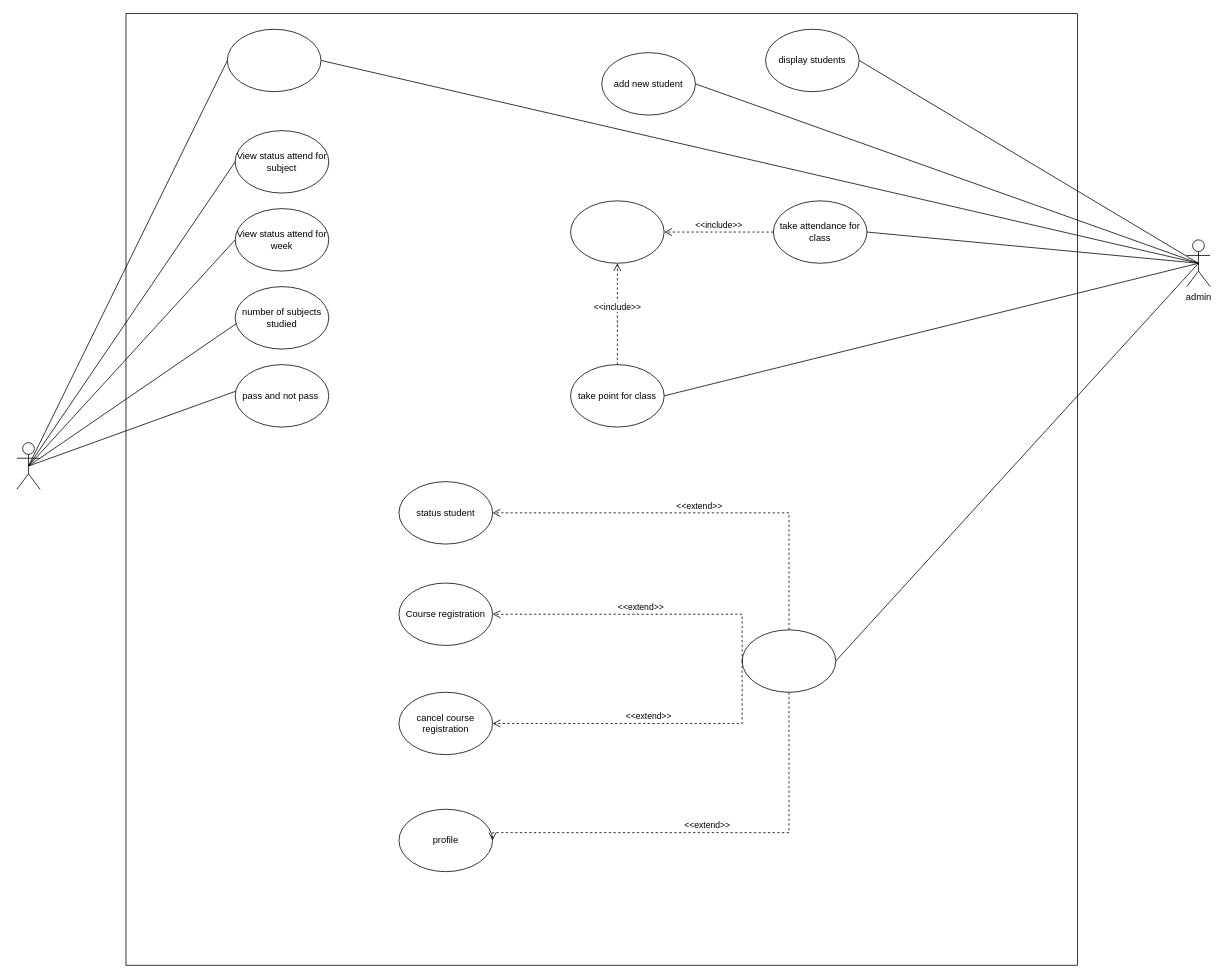
This 1225x979 diagram has some shape labels left out. The shapes that lost their labels are listed below. From the top down, each one's box as (x1, y1, x2, y2) in pixels, then its label:
(227, 28, 321, 92): Login
(570, 200, 664, 263): class code
(16, 442, 40, 489): student
(741, 629, 836, 692): search student code
